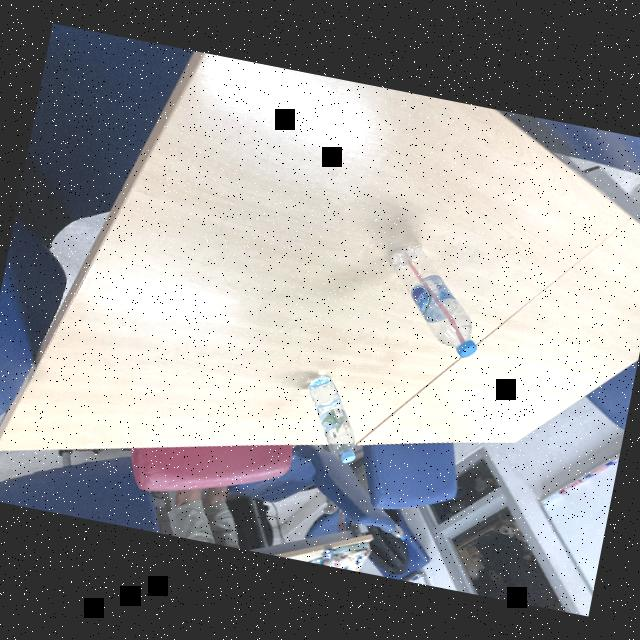plastic_bottle: (372, 240, 496, 362), (293, 371, 372, 467)
plastic_bottle_cap: (456, 338, 477, 358), (339, 448, 356, 466)
straw: (392, 260, 480, 346)
